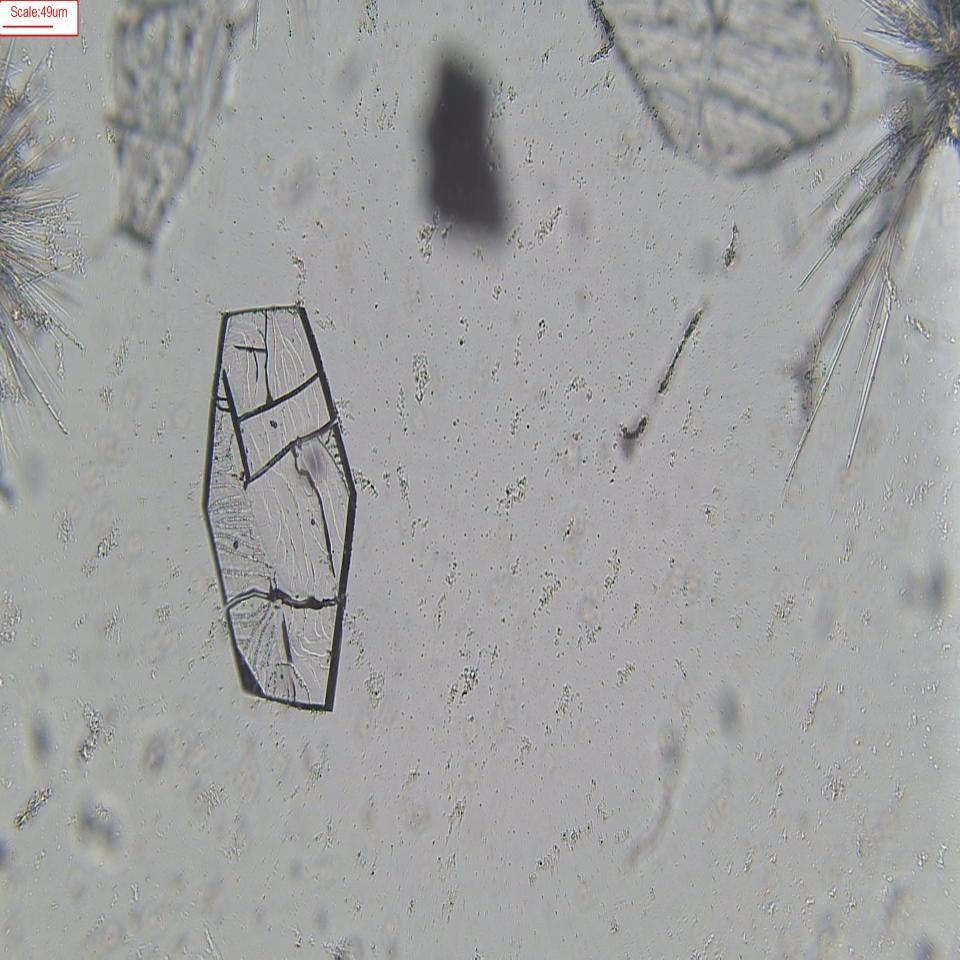crystal: (193, 302, 366, 715)
